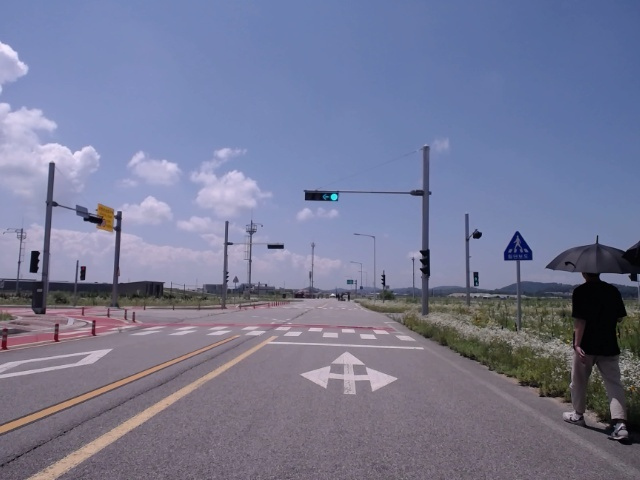all_green_4: (305, 192, 339, 203)
